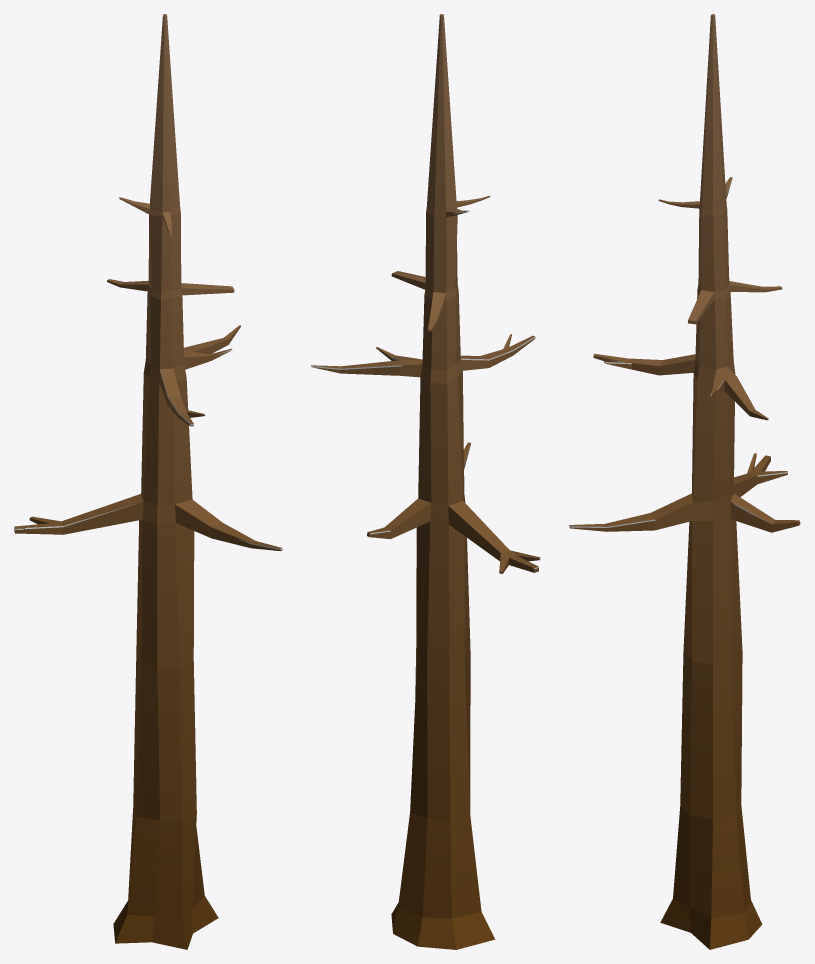
The model's file is Tree1.fbx.
The picture shows the model from 3 angles, left to right: view 1: azimuth 30°, elevation 25°; view 2: azimuth 150°, elevation 25°; view 3: azimuth 270°, elevation 25°; orthographic projection.
Visible parts, largest first — view 1: Tree_1; view 2: Tree_1; view 3: Tree_1.
Part boxes in pixels (x1,y1,x2,y2): Tree_1: (14,14,282,949); Tree_1: (311,14,540,949); Tree_1: (569,14,800,949).
Bounding box in the file's own units: 199 × 766 × 177.
Materials: 2 (1 with a texture image).
